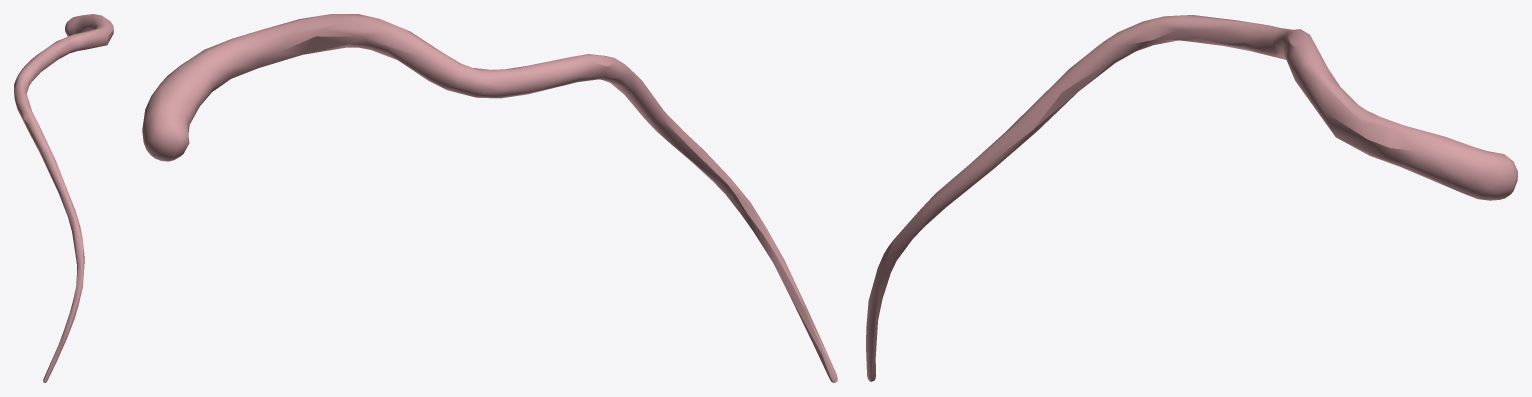
Rendered from fma71886_fj3103.glb.
3 renders of one model, left to right at view 1: azimuth 30°, elevation 25°; view 2: azimuth 150°, elevation 25°; view 3: azimuth 270°, elevation 25°, orthographic. The views are drawn at different scales.
Visible parts, largest first — view 1: FMA71886_FJ3103; view 2: FMA71886_FJ3103; view 3: FMA71886_FJ3103.
Part boxes in pixels (box(x1,y1,x2,y2)): FMA71886_FJ3103: box(14, 14, 113, 382); FMA71886_FJ3103: box(142, 14, 837, 382); FMA71886_FJ3103: box(866, 15, 1517, 381).
Bounding box in the file's own units: 0.0303 × 0.033 × 0.0415.
